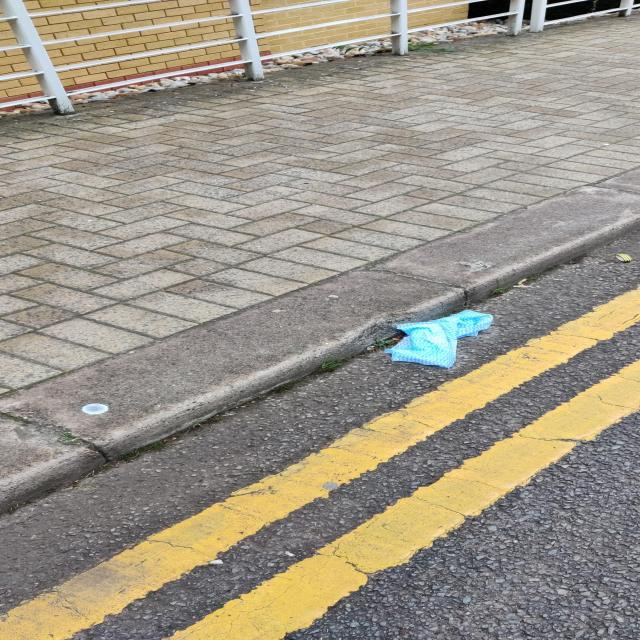litter: (379, 295, 511, 372), (613, 249, 637, 266)
